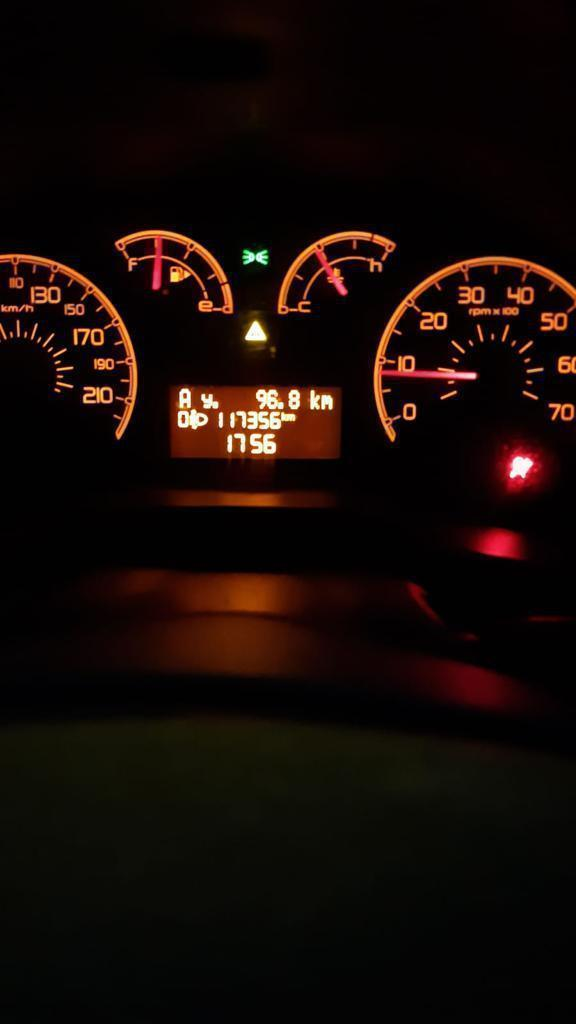,: (277, 400, 284, 410), (212, 400, 219, 409)
0: (176, 410, 189, 428)
1: (215, 409, 225, 430), (227, 409, 236, 430), (224, 432, 232, 454)
3: (247, 410, 258, 430)
5: (248, 433, 263, 456), (258, 410, 269, 431)
6: (263, 432, 278, 455), (269, 410, 281, 430), (266, 388, 277, 409)
7: (233, 432, 246, 453), (235, 410, 247, 429)
8: (287, 387, 302, 410)
9: (254, 387, 266, 410)
X: (177, 386, 192, 409), (308, 387, 321, 410), (200, 391, 212, 410), (320, 394, 333, 410), (287, 413, 296, 422), (281, 410, 287, 422)
odometer: (166, 379, 347, 464)
